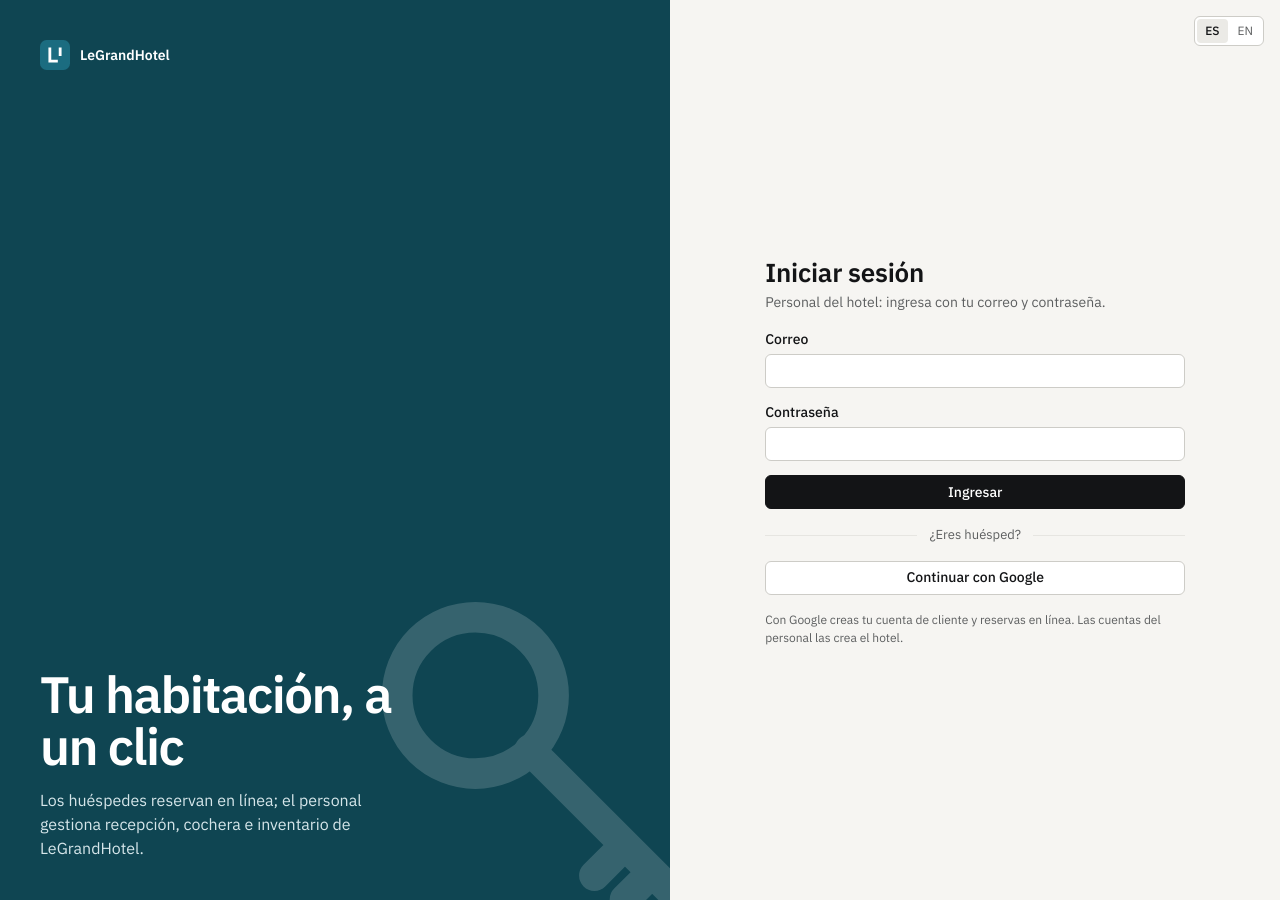
Test: formularios de acceso › un login correcto guarda la sesión y entra al panel del rol
Type "r@h.pe" into the field labelled "Correo".
click(975, 371); type("r@h.pe")  # box [765,354,1185,388]
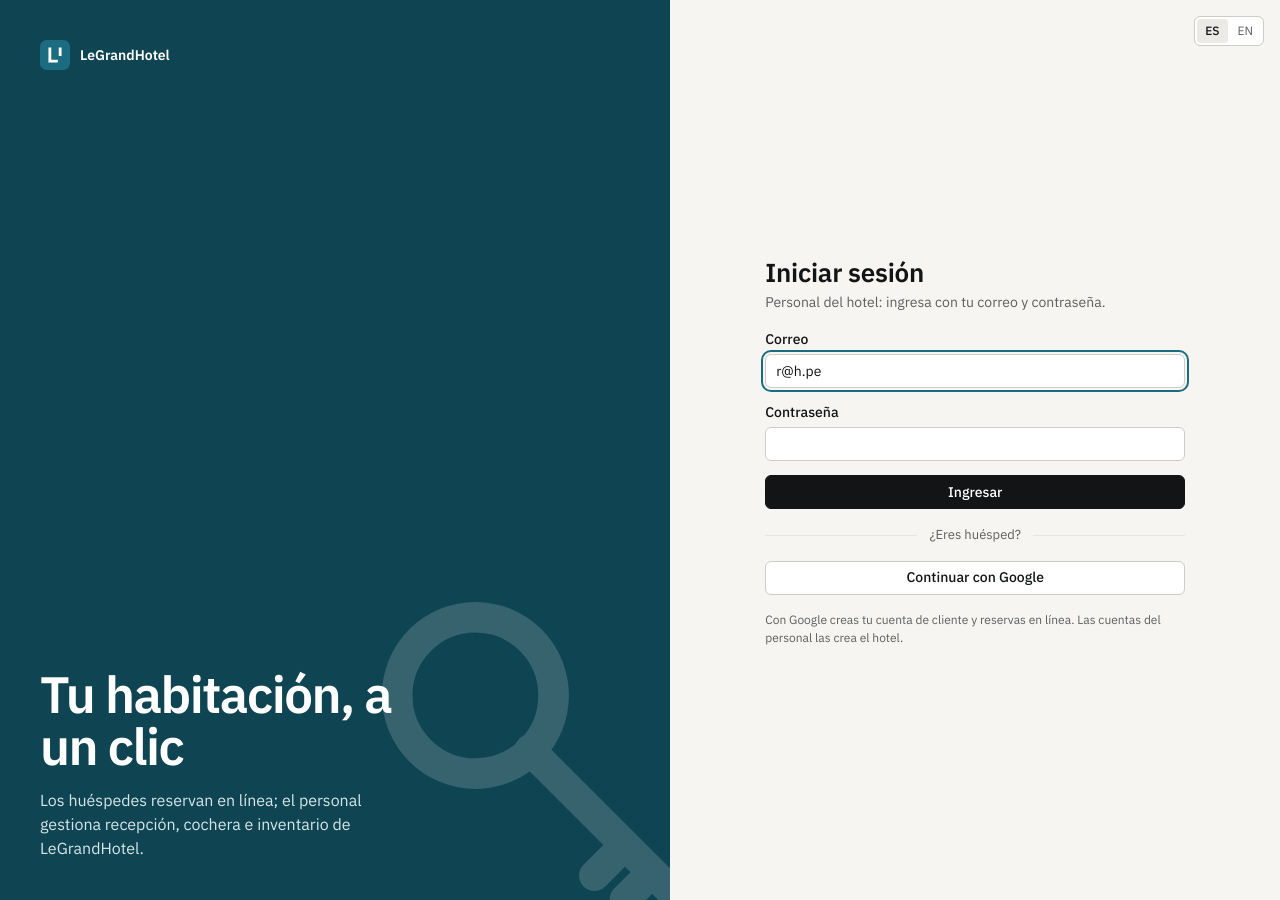
Type "Clave1234" into the password field labelled "Contraseña".
click(975, 444); type("Clave1234")  # box [765,427,1185,461]
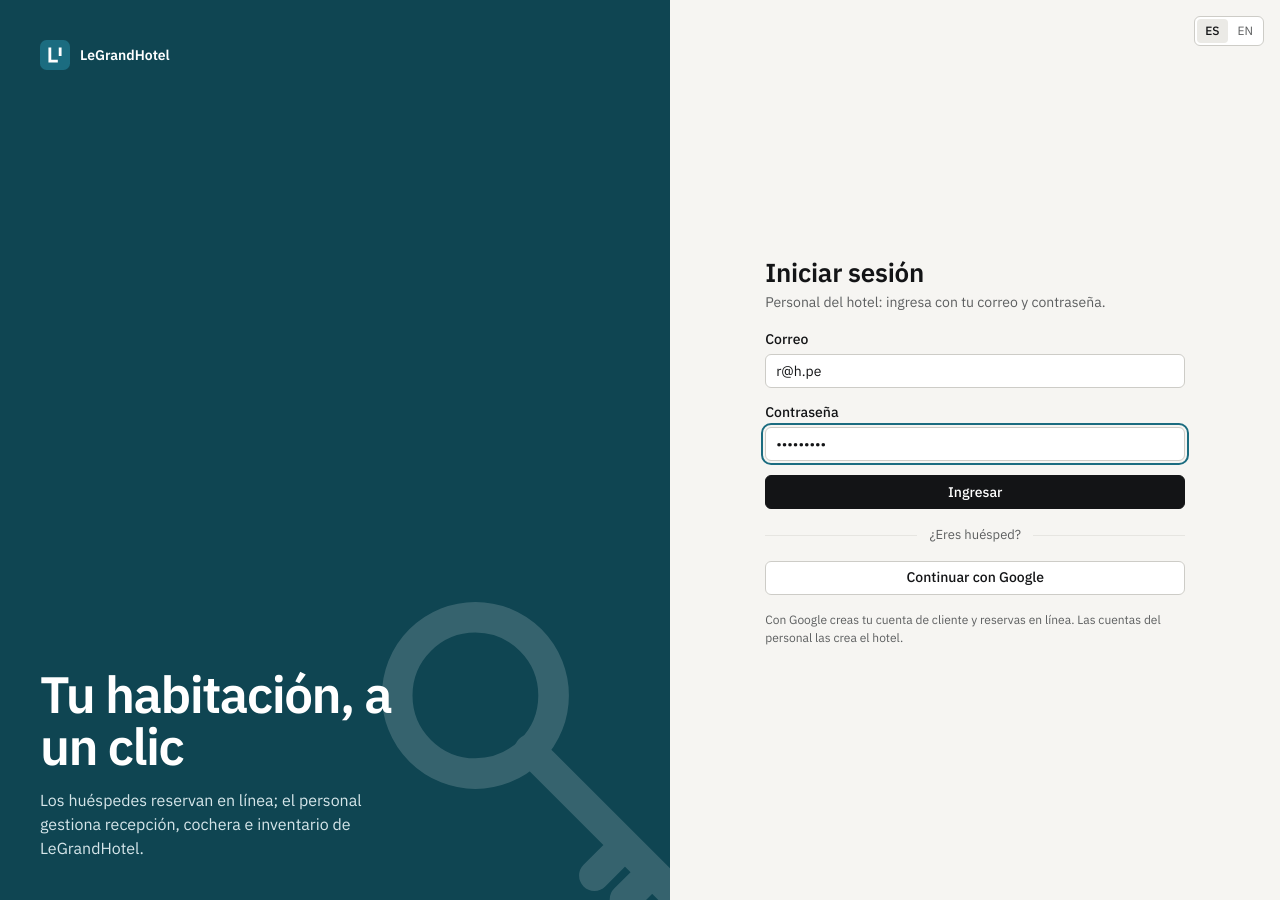
Click the button "Ingresar".
click(975, 492)  # box [765,475,1185,509]
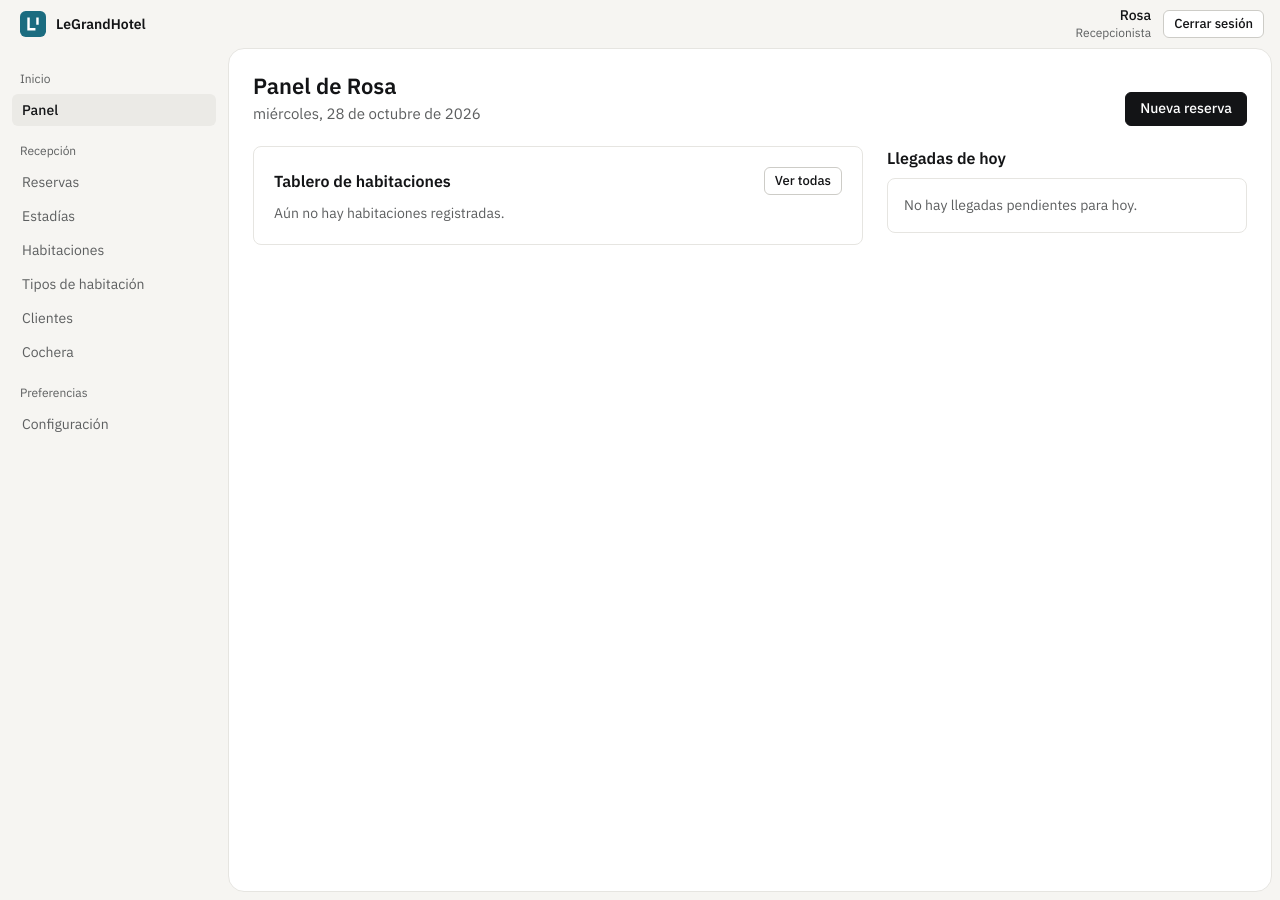
Expected: the heading "Panel de Rosa" is shown, [253,71,397,100]
